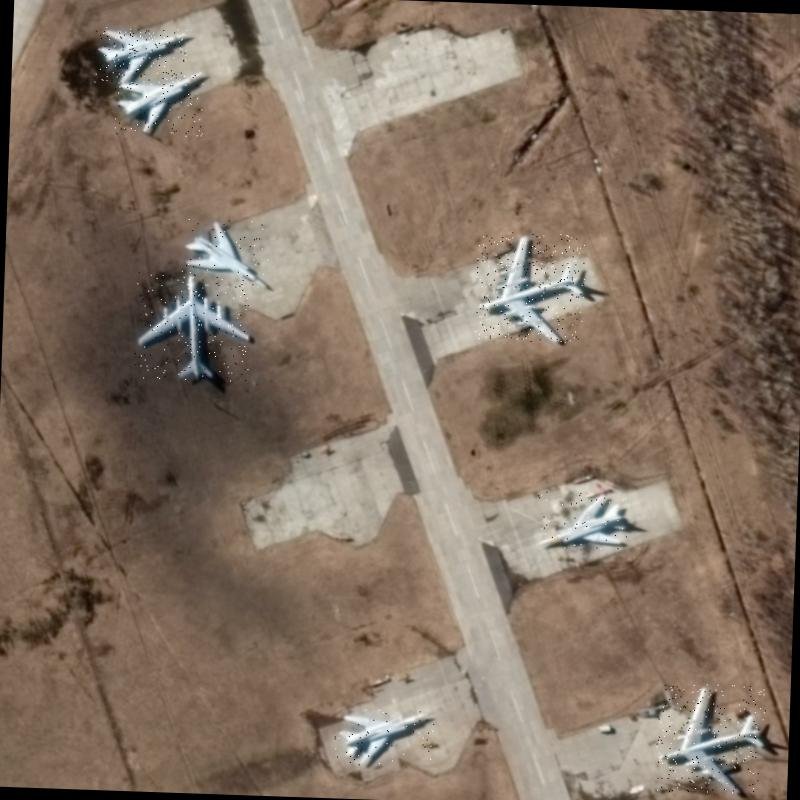A12: (114, 67, 206, 137), (181, 217, 271, 288), (333, 708, 434, 769), (94, 26, 187, 86), (536, 490, 629, 550)
A17: (134, 270, 252, 382), (654, 682, 767, 795), (474, 231, 587, 344)
